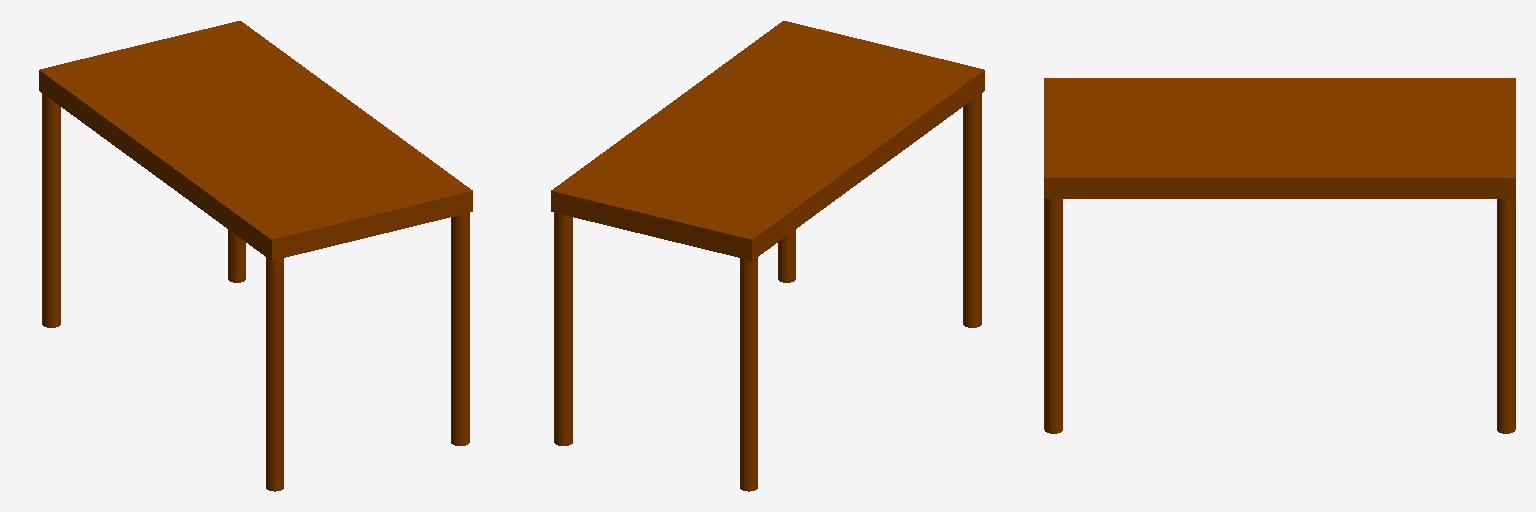
The robot description file, URDF, robot "table":
<?xml version="1.0" ?>
<!-- =================================================================================== -->
<!-- |    This document was autogenerated by xacro from table.urdf.xacro               | -->
<!-- |    EDITING THIS FILE BY HAND IS NOT RECOMMENDED                                 | -->
<!-- =================================================================================== -->
<robot name="table">
  <material name="brown">
    <color rgba="0.59 0.29 0 1"/>
  </material>
  <link name="world"/>
  <joint name="table_base_to_world" type="fixed">
    <parent link="world"/>
    <child link="table_base_link"/>
    <origin rpy="0 0 0" xyz="0 0 0"/>
  </joint>
  <link name="table_base_link"/>
  <joint name="base_to_top" type="fixed">
    <parent link="table_base_link"/>
    <origin xyz="0 0 0.6"/>
    <child link="table_top_link"/>
  </joint>
  <!-- tabletop height is .55+.01+.025=.585 -->
  <link name="table_top_link">
    <inertial>
      <mass value="10.0"/>
      <origin xyz="0 0 -0.025"/>
      <inertia ixx="1" ixy="0" ixz="0" iyy="1" iyz="0" izz="1"/>
    </inertial>
    <visual>
      <origin xyz="0 0 -0.025"/>
      <geometry>
        <box size="0.5 1.0 0.05"/>
      </geometry>
      <material name="brown"/>
    </visual>
    <collision>
      <origin xyz="0 0 -0.025"/>
      <geometry>
        <box size="0.5 1.0 0.05"/>
      </geometry>
    </collision>
  </link>
  <joint name="table_leg1_joint" type="fixed">
    <parent link="table_top_link"/>
    <origin rpy="0 0 0" xyz="0.23 0.48 -0.05"/>
    <child link="table_leg1_link"/>
  </joint>
  <link name="table_leg1_link">
    <inertial>
      <mass value="1.0"/>
      <origin xyz="0 0 -0.27499999999999997"/>
      <inertia ixx="0.1" ixy="0" ixz="0" iyy="0.1" iyz="0" izz="0.01"/>
    </inertial>
    <visual>
      <origin rpy="0 0 0" xyz="0.0 0.0 -0.27499999999999997"/>
      <geometry>
        <cylinder length="0.5499999999999999" radius="0.02"/>
      </geometry>
      <material name="brown"/>
    </visual>
    <collision>
      <origin rpy="0.0 0.0 0.0" xyz="0.0 0.0 -0.27499999999999997"/>
      <geometry>
        <cylinder length="0.5499999999999999" radius="0.02"/>
      </geometry>
    </collision>
  </link>
  <joint name="table_leg2_joint" type="fixed">
    <parent link="table_top_link"/>
    <origin rpy="0 0 0" xyz="0.23 -0.48 -0.05"/>
    <child link="table_leg2_link"/>
  </joint>
  <link name="table_leg2_link">
    <inertial>
      <mass value="1.0"/>
      <origin xyz="0 0 -0.27499999999999997"/>
      <inertia ixx="0.1" ixy="0" ixz="0" iyy="0.1" iyz="0" izz="0.01"/>
    </inertial>
    <visual>
      <origin rpy="0 0 0" xyz="0.0 0.0 -0.27499999999999997"/>
      <geometry>
        <cylinder length="0.5499999999999999" radius="0.02"/>
      </geometry>
      <material name="brown"/>
    </visual>
    <collision>
      <origin rpy="0.0 0.0 0.0" xyz="0.0 0.0 -0.27499999999999997"/>
      <geometry>
        <cylinder length="0.5499999999999999" radius="0.02"/>
      </geometry>
    </collision>
  </link>
  <joint name="table_leg3_joint" type="fixed">
    <parent link="table_top_link"/>
    <origin rpy="0 0 0" xyz="-0.23 -0.48 -0.05"/>
    <child link="table_leg3_link"/>
  </joint>
  <link name="table_leg3_link">
    <inertial>
      <mass value="1.0"/>
      <origin xyz="0 0 -0.27499999999999997"/>
      <inertia ixx="0.1" ixy="0" ixz="0" iyy="0.1" iyz="0" izz="0.01"/>
    </inertial>
    <visual>
      <origin rpy="0 0 0" xyz="0.0 0.0 -0.27499999999999997"/>
      <geometry>
        <cylinder length="0.5499999999999999" radius="0.02"/>
      </geometry>
      <material name="brown"/>
    </visual>
    <collision>
      <origin rpy="0.0 0.0 0.0" xyz="0.0 0.0 -0.27499999999999997"/>
      <geometry>
        <cylinder length="0.5499999999999999" radius="0.02"/>
      </geometry>
    </collision>
  </link>
  <joint name="table_leg4_joint" type="fixed">
    <parent link="table_top_link"/>
    <origin rpy="0 0 0" xyz="-0.23 0.48 -0.05"/>
    <child link="table_leg4_link"/>
  </joint>
  <link name="table_leg4_link">
    <inertial>
      <mass value="1.0"/>
      <origin xyz="0 0 -0.27499999999999997"/>
      <inertia ixx="0.1" ixy="0" ixz="0" iyy="0.1" iyz="0" izz="0.01"/>
    </inertial>
    <visual>
      <origin rpy="0 0 0" xyz="0.0 0.0 -0.27499999999999997"/>
      <geometry>
        <cylinder length="0.5499999999999999" radius="0.02"/>
      </geometry>
      <material name="brown"/>
    </visual>
    <collision>
      <origin rpy="0.0 0.0 0.0" xyz="0.0 0.0 -0.27499999999999997"/>
      <geometry>
        <cylinder length="0.5499999999999999" radius="0.02"/>
      </geometry>
    </collision>
  </link>
</robot>

--- What the picture shows (computed from the rendered views, not written in the file) ---
The picture shows the robot from 3 angles, left to right: view 1: azimuth 30°, elevation 25°; view 2: azimuth 150°, elevation 25°; view 3: azimuth 270°, elevation 25°; orthographic projection.
Robot: table — 7 links, 6 joints (6 fixed); root link world; default pose: every joint at zero.
Links seen in each view (by area): view 1: table_top_link, table_leg2_link, table_leg4_link, table_leg3_link, table_leg1_link; view 2: table_top_link, table_leg1_link, table_leg3_link, table_leg4_link, table_leg2_link; view 3: table_top_link, table_leg1_link, table_leg2_link.
Link boxes in pixels (box(x1,y1,x2,y2)): table_top_link: box(39, 21, 472, 260); table_leg2_link: box(451, 213, 469, 445); table_leg4_link: box(42, 93, 60, 327); table_leg3_link: box(266, 257, 283, 491); table_leg1_link: box(228, 229, 245, 282); table_top_link: box(551, 21, 984, 260); table_leg1_link: box(554, 213, 572, 445); table_leg3_link: box(963, 93, 981, 327); table_leg4_link: box(740, 257, 757, 491); table_leg2_link: box(778, 229, 795, 282); table_top_link: box(1044, 78, 1515, 198); table_leg1_link: box(1497, 199, 1515, 433); table_leg2_link: box(1044, 199, 1062, 433).
Size in the robot's own frame: 0.5 by 1 by 0.6 metres.
Geometry: primitives only (box / cylinder / sphere), no mesh files.